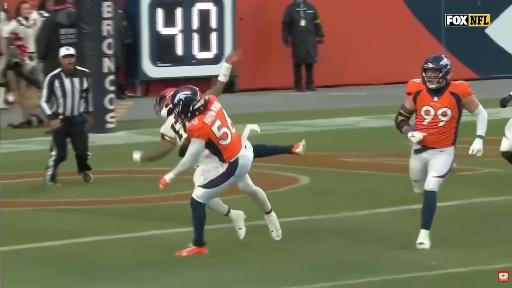Helmet: (172, 86, 205, 122), (422, 55, 451, 88), (154, 88, 176, 118)
Jersey: (406, 80, 473, 148), (187, 96, 242, 162), (161, 116, 187, 146)
Player: (159, 86, 280, 255), (395, 55, 487, 249), (134, 88, 187, 162), (500, 119, 511, 163)
